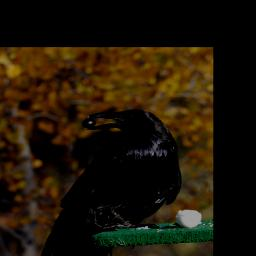Crow: (40, 109, 183, 256)
